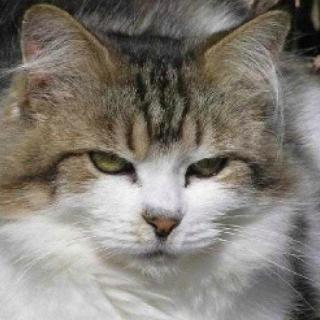cat: (16, 2, 295, 272)
nose: (138, 194, 191, 244)
